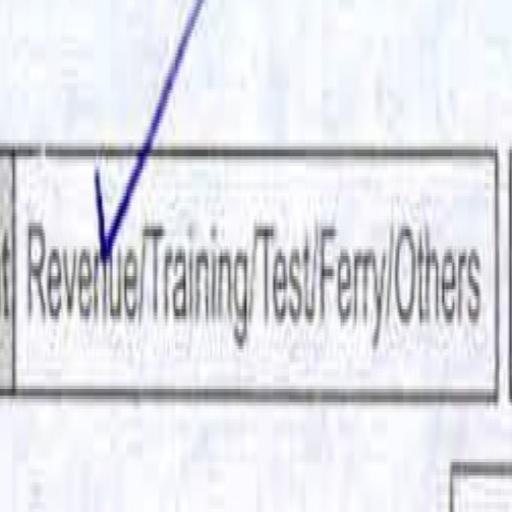check: (14, 68, 143, 412)
